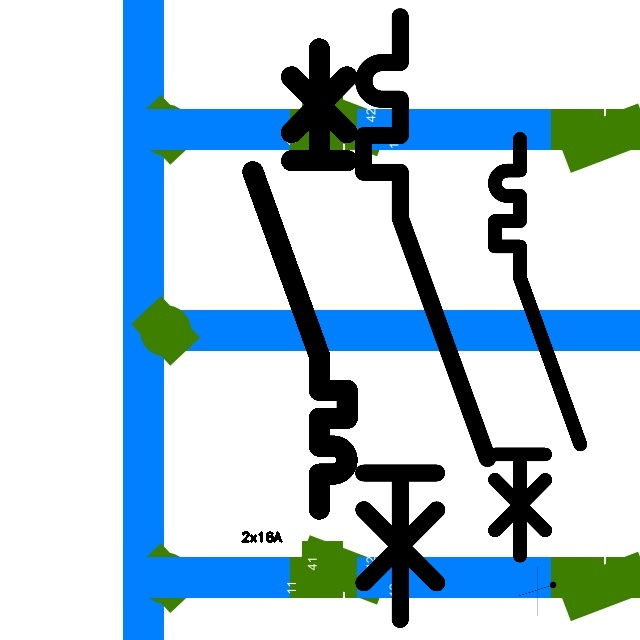interruptor_termomagnetico: (348, 1, 503, 635), (241, 37, 359, 521), (484, 128, 591, 566)
